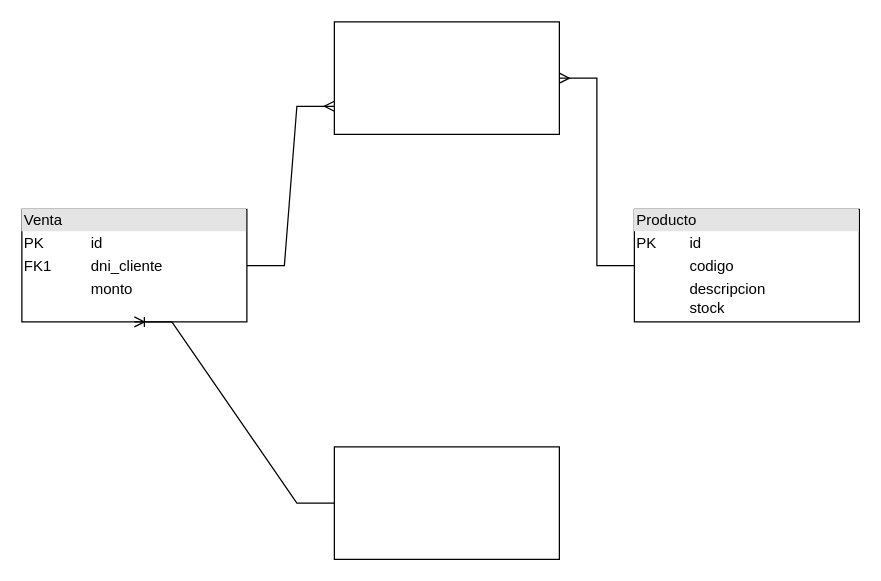
The diagram is 881 pixels wide and 581 high, and some of its shapes have lost their labels. Each missing label, with the box of its shape:
Cliente PK dni nombre apellido: (333, 446, 559, 559)
Venta Producto PK id FK1 id_venta FK2 id_producto: (333, 21, 559, 134)
